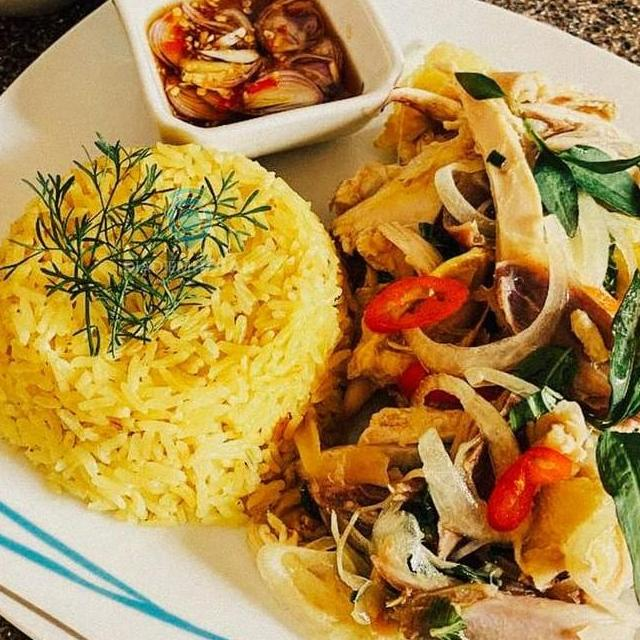com: (0, 135, 363, 533)
rau ram: (496, 265, 640, 610), (449, 65, 640, 241)
thit ga: (322, 66, 640, 434), (281, 389, 640, 640)
